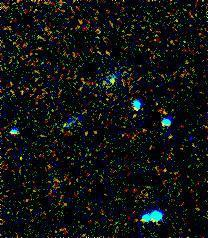star: (174, 123, 204, 153)
